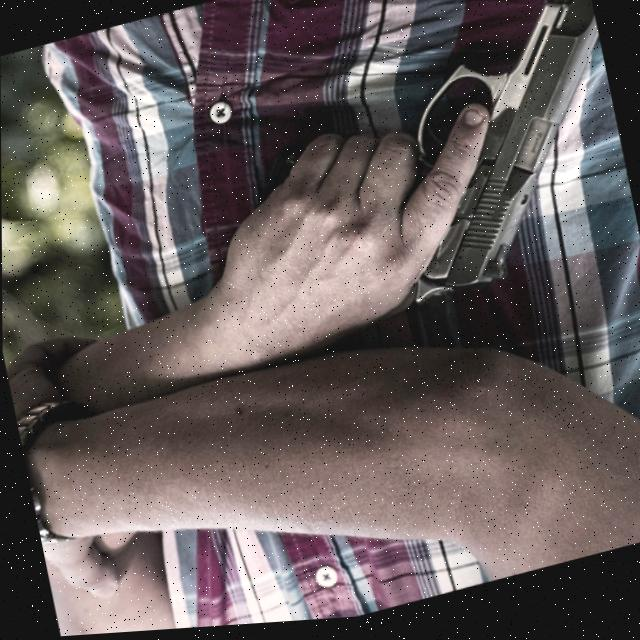pistol: (354, 0, 640, 319)
